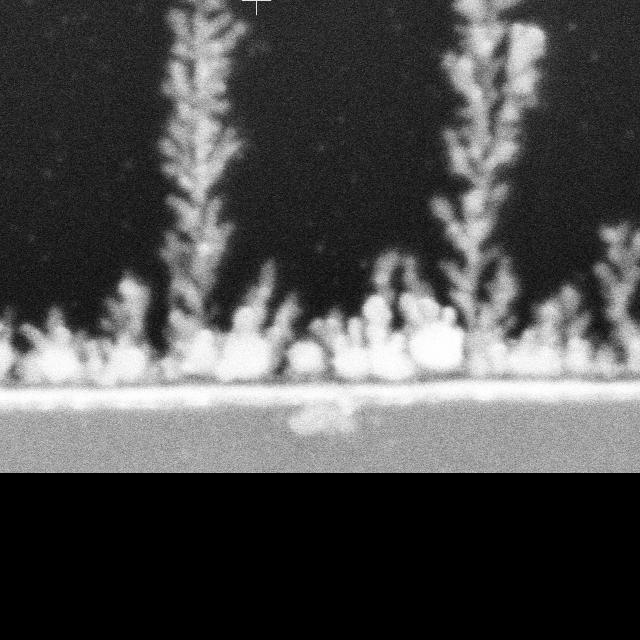Dendrite: (282, 0, 589, 377), (23, 0, 311, 385), (0, 290, 157, 386)
